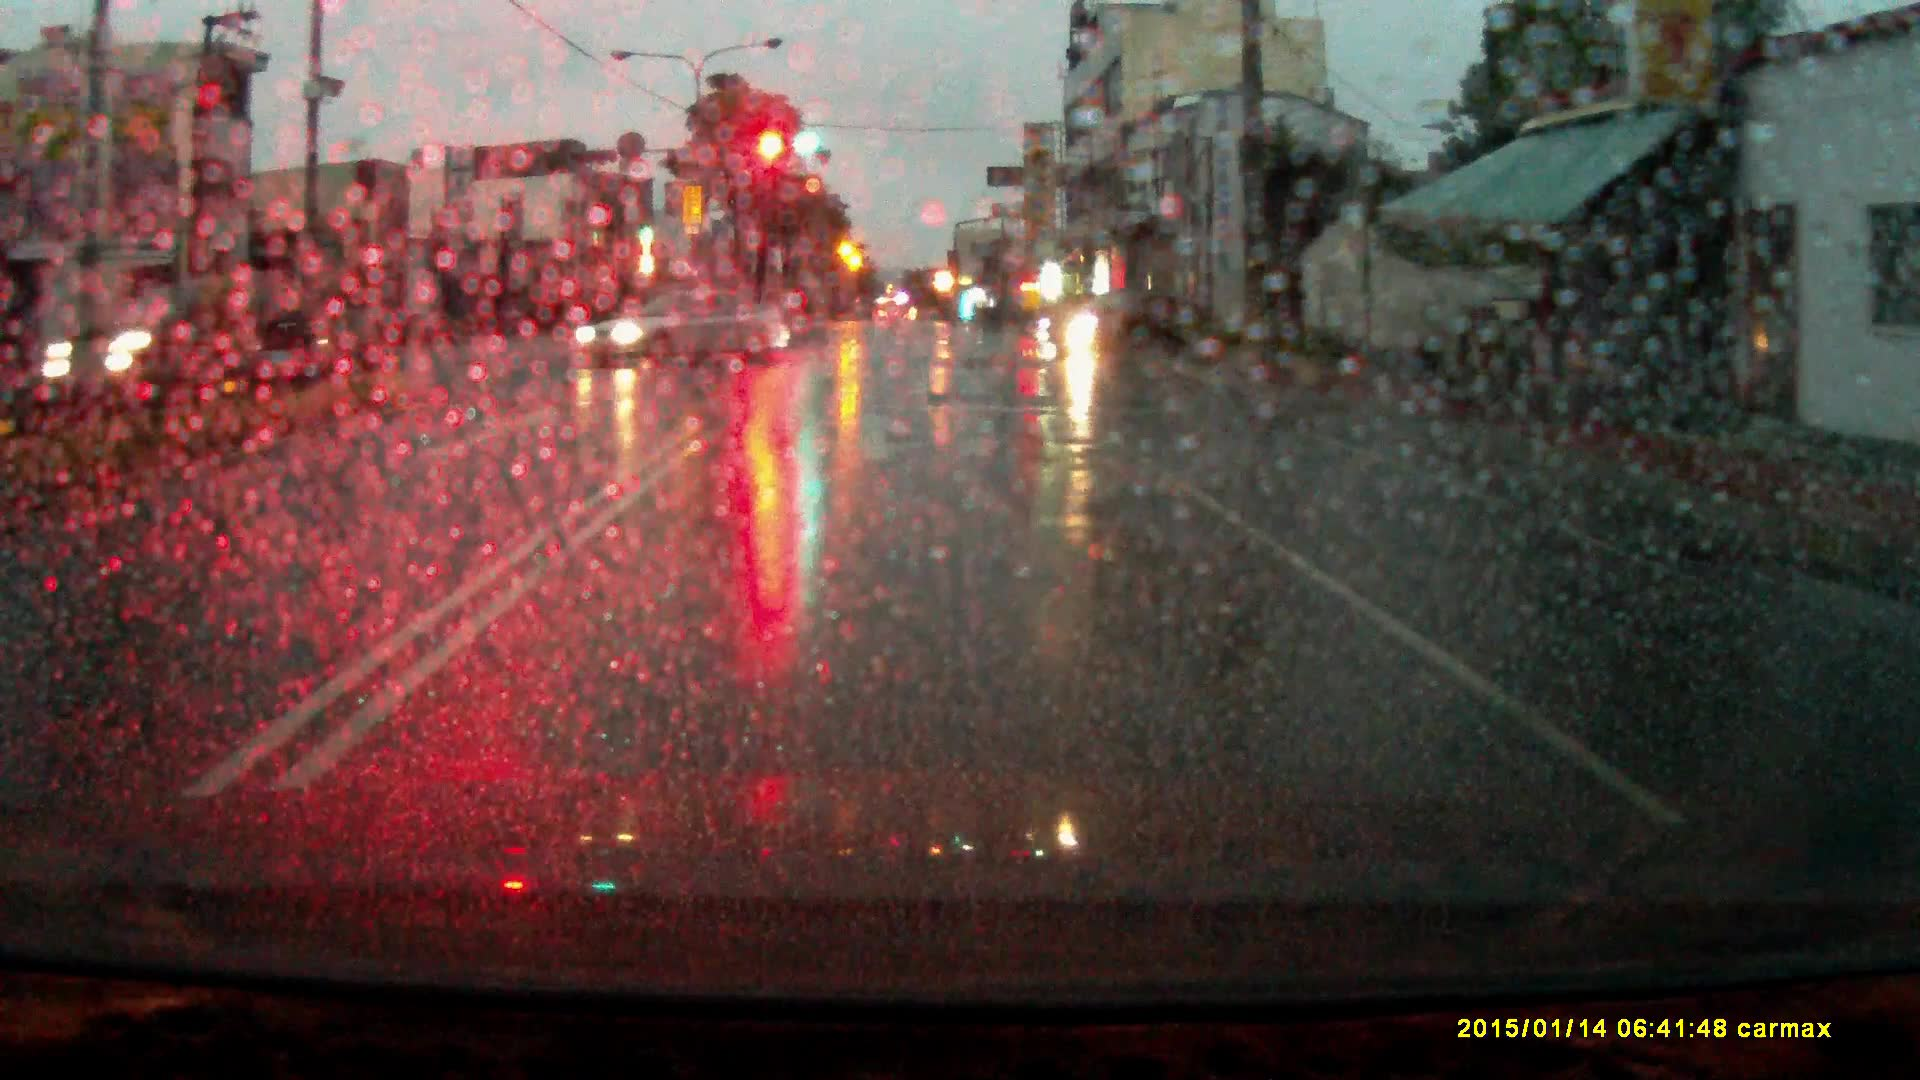vehicle: (91, 268, 353, 378), (572, 285, 795, 369), (1040, 294, 1211, 356)
